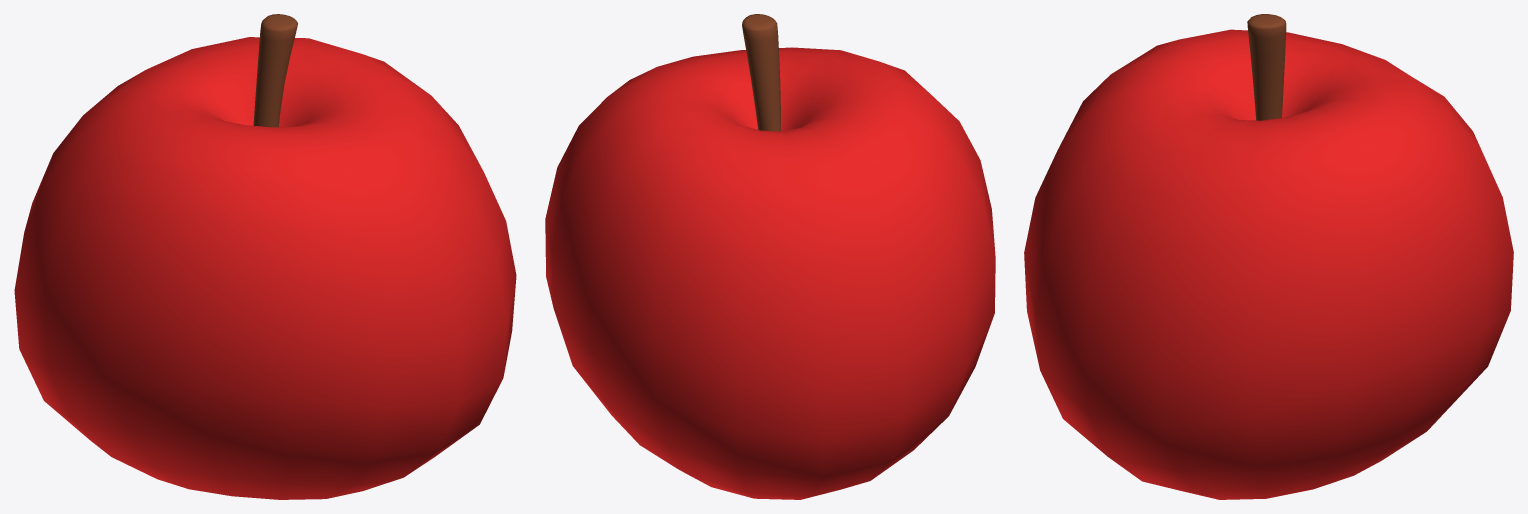
The model's file is apple-d-1.fbx.
3 renders of one model, left to right at view 1: azimuth 30°, elevation 25°; view 2: azimuth 150°, elevation 25°; view 3: azimuth 270°, elevation 25°, orthographic. The views are drawn at different scales.
Parts seen in each view (by area): view 1: apple-d-1.001; view 2: apple-d-1.001; view 3: apple-d-1.001.
Boxes of the visible parts, box(x1,y1,x2,y2) form: apple-d-1.001: box(14, 14, 516, 499); apple-d-1.001: box(545, 14, 995, 499); apple-d-1.001: box(1024, 14, 1513, 499).
Bounding box in the file's own units: 9.38 × 9.46 × 9.32.
